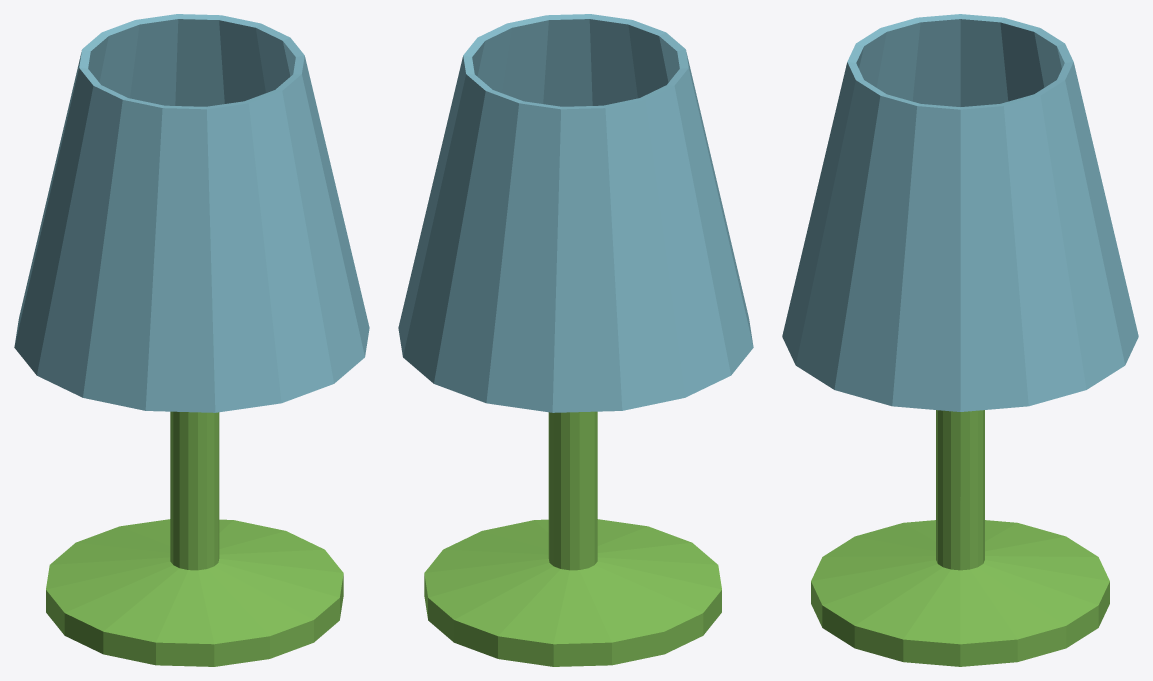
The model's file is TriangularLampshade.fbx.
The picture shows the model from 3 angles, left to right: view 1: azimuth 30°, elevation 25°; view 2: azimuth 150°, elevation 25°; view 3: azimuth 270°, elevation 25°; orthographic projection.
Parts seen in each view (by area): view 1: TriangularLampshade; view 2: TriangularLampshade; view 3: TriangularLampshade.
Part boxes in pixels (<box>): TriangularLampshade: <box>14,14,369,666</box>; TriangularLampshade: <box>398,14,753,666</box>; TriangularLampshade: <box>782,14,1138,666</box>.
Size of the model in its own units: 239 by 399 by 239.
